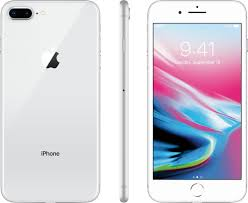iphone: (144, 1, 248, 203), (1, 1, 103, 203)
iphone8: (142, 1, 246, 203), (1, 1, 103, 203)
